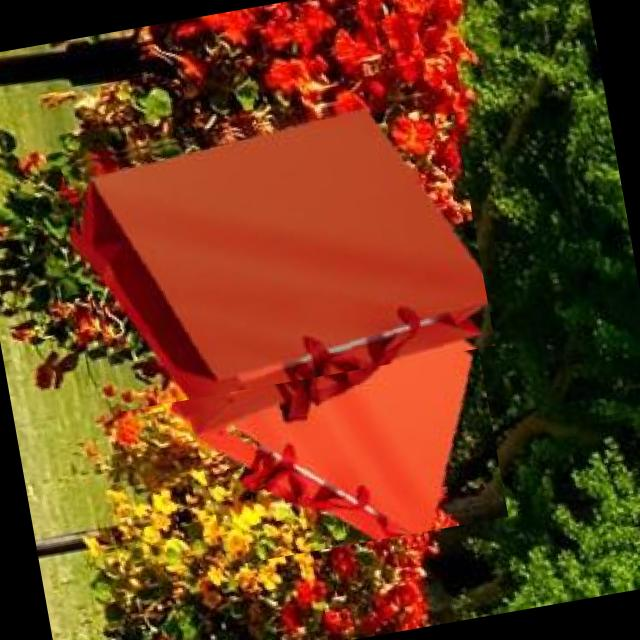PaperCardboard: (81, 104, 487, 400), (193, 294, 478, 537)
